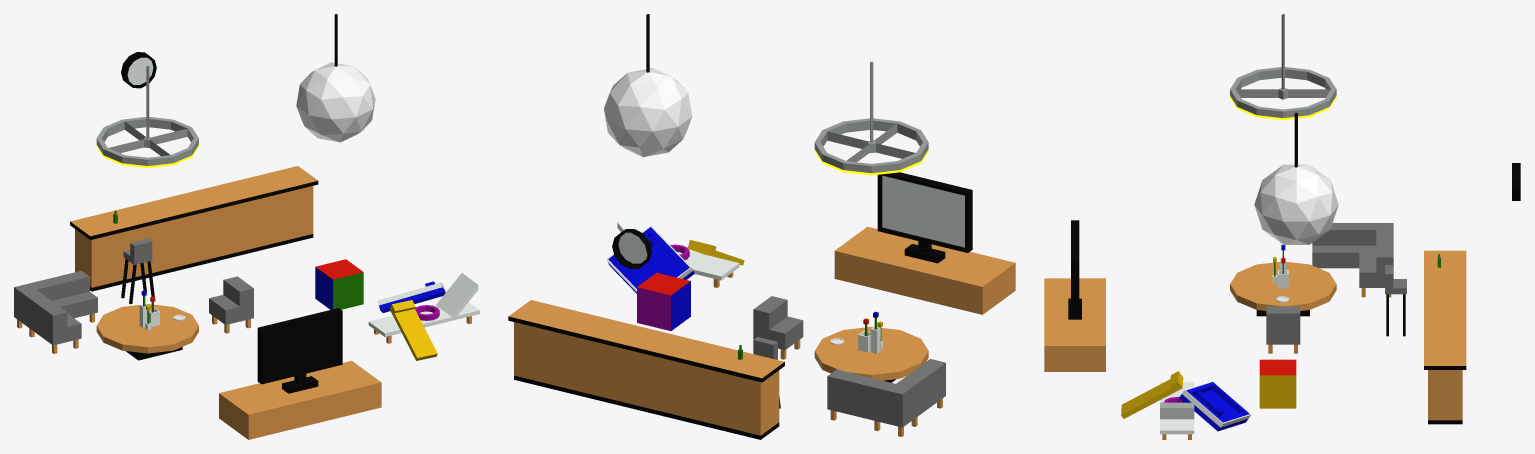
3 views of the same model, side by side, from view 1: azimuth 30°, elevation 25°; view 2: azimuth 150°, elevation 25°; view 3: azimuth 270°, elevation 25° (orthographic). The views are drawn at different scales.
Visible parts, largest first — view 1: Cube.008, Cube.020, Cube.021, Cylinder.013, Cube.001, Cylinder, Cylinder.001, Cube.016, Cube.023, Cube, Cube.022, Cube.009 (+2 smaller); view 2: Cube.008, Cube.020, Cube.021, Cylinder.013, Cube.001, Cylinder.001, Cylinder, Cube.016, Cube.024, Cube, Cube.023, Cylinder.014 (+1 smaller); view 3: Cube.008, Cylinder.013, Cube.020, Cube.001, Cylinder, Cylinder.001, Cube.024, Cube.016, Cube, Cube.023, Cube.022, Cube.021 (+1 smaller).
Boxes of the visible parts, bbox=[...] form: Cube.008: bbox=[70, 166, 318, 291]; Cube.020: bbox=[219, 360, 381, 439]; Cube.021: bbox=[257, 308, 342, 393]; Cylinder.013: bbox=[296, 14, 375, 142]; Cube.001: bbox=[14, 271, 97, 353]; Cylinder: bbox=[96, 304, 198, 360]; Cylinder.001: bbox=[96, 66, 198, 168]; Cube.016: bbox=[315, 259, 363, 309]; Cube.023: bbox=[368, 273, 479, 343]; Cube: bbox=[209, 276, 253, 333]; Cube.022: bbox=[389, 300, 437, 360]; Cube.009: bbox=[121, 238, 154, 304]; Cube.008: bbox=[508, 300, 784, 439]; Cube.020: bbox=[834, 226, 1015, 314]; Cube.021: bbox=[877, 172, 972, 263]; Cylinder.013: bbox=[604, 14, 692, 157]; Cube.001: bbox=[827, 359, 945, 436]; Cylinder.001: bbox=[814, 61, 928, 175]; Cylinder: bbox=[814, 326, 928, 382]; Cube.016: bbox=[637, 272, 690, 330]; Cube.024: bbox=[606, 225, 694, 293]; Cube: bbox=[753, 296, 803, 359]; Cube.023: bbox=[617, 209, 739, 287]; Cylinder.014: bbox=[612, 229, 651, 269]; Cube.008: bbox=[1424, 250, 1466, 424]; Cylinder.013: bbox=[1254, 112, 1338, 244]; Cube.020: bbox=[1044, 278, 1105, 371]; Cube.001: bbox=[1312, 223, 1393, 297]; Cylinder: bbox=[1230, 262, 1336, 316]; Cylinder.001: bbox=[1230, 14, 1336, 120]; Cube.024: bbox=[1179, 381, 1251, 431]; Cube.016: bbox=[1259, 359, 1296, 408]; Cube: bbox=[1266, 306, 1300, 353]; Cube.023: bbox=[1160, 382, 1194, 439]; Cube.022: bbox=[1121, 371, 1183, 418]; Cube.021: bbox=[1068, 220, 1081, 319].
Size of the model in its own units: 7.98 by 6.17 by 8.95.
